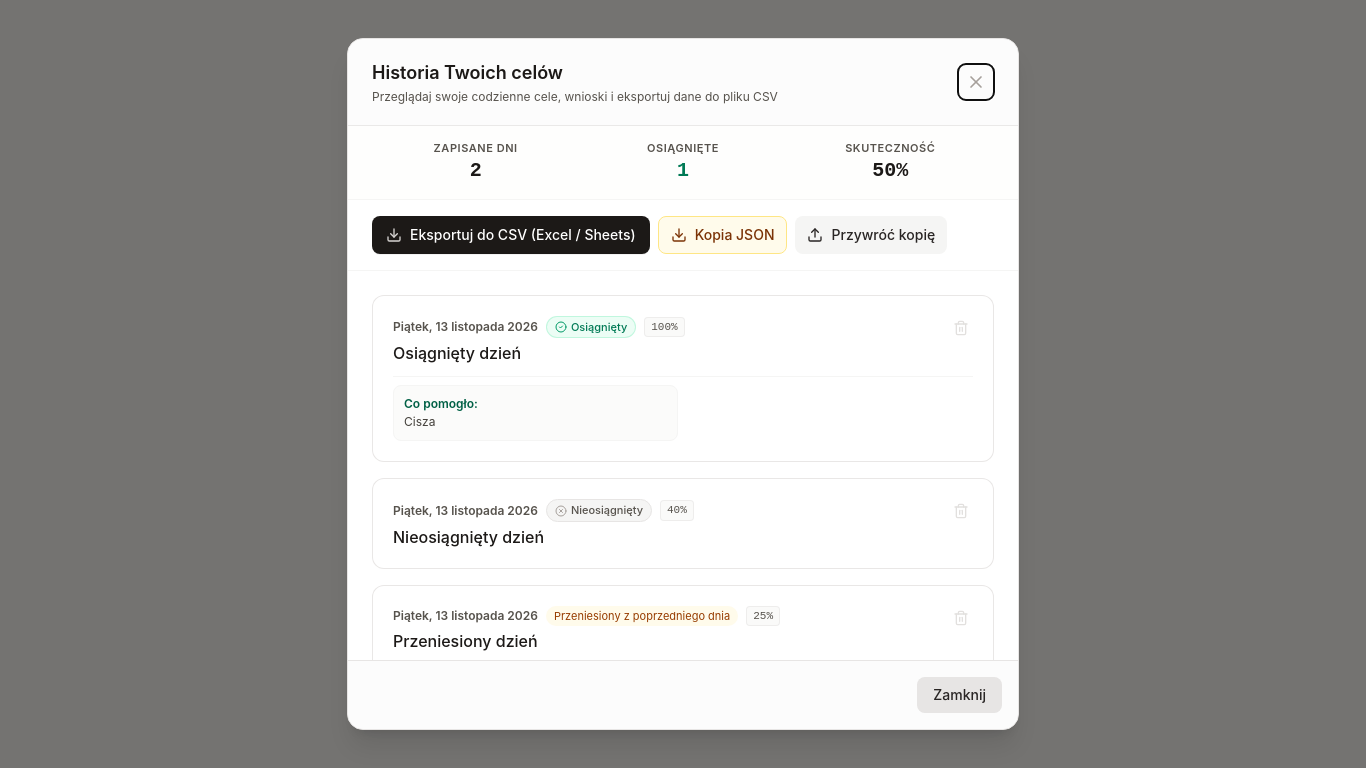
Test case: HistoryModal › gdy usunięcie się nie uda, pokazuje komunikat i zostawia wpis
Click the button named "Usuń wpis" in the row of "100": (961, 328) x1=949 y1=316 x2=973 y2=340
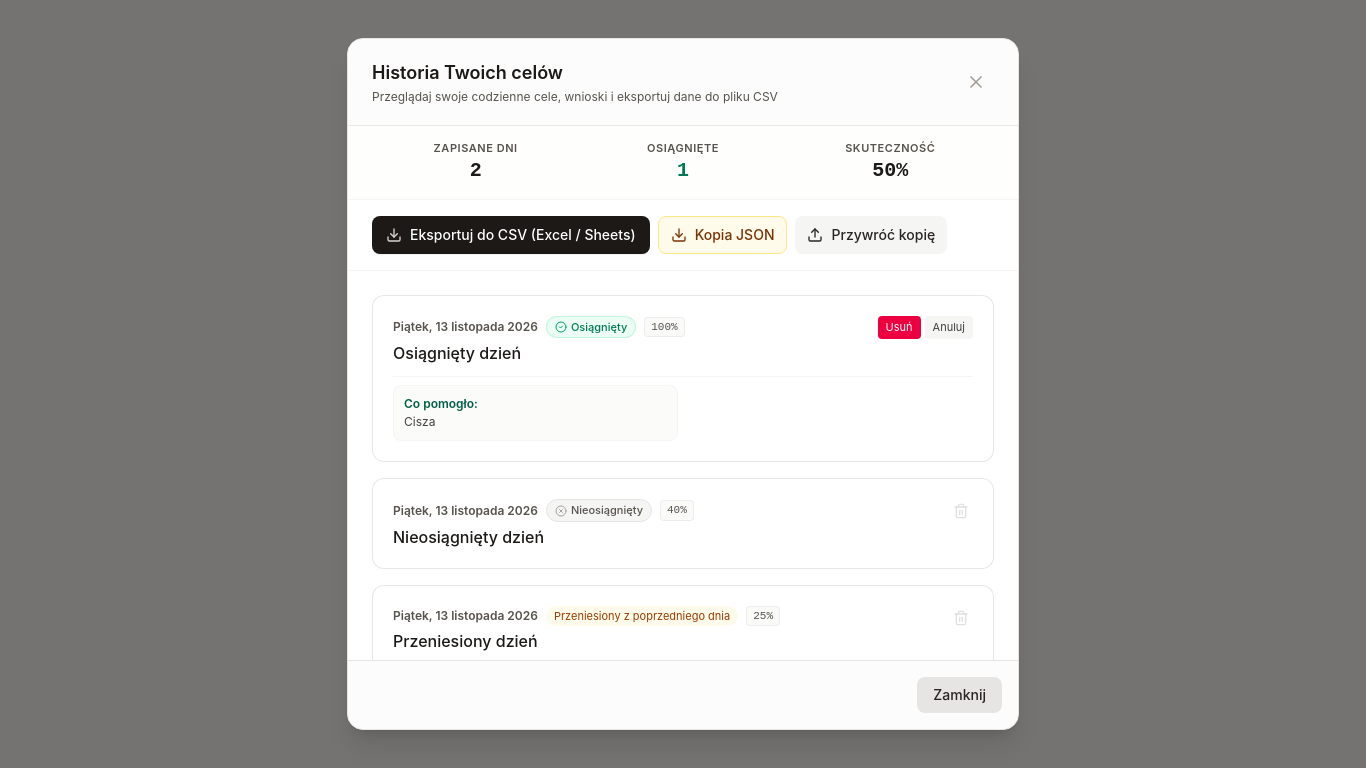
Click the button "Usuń": (899, 327) x1=878 y1=316 x2=921 y2=339
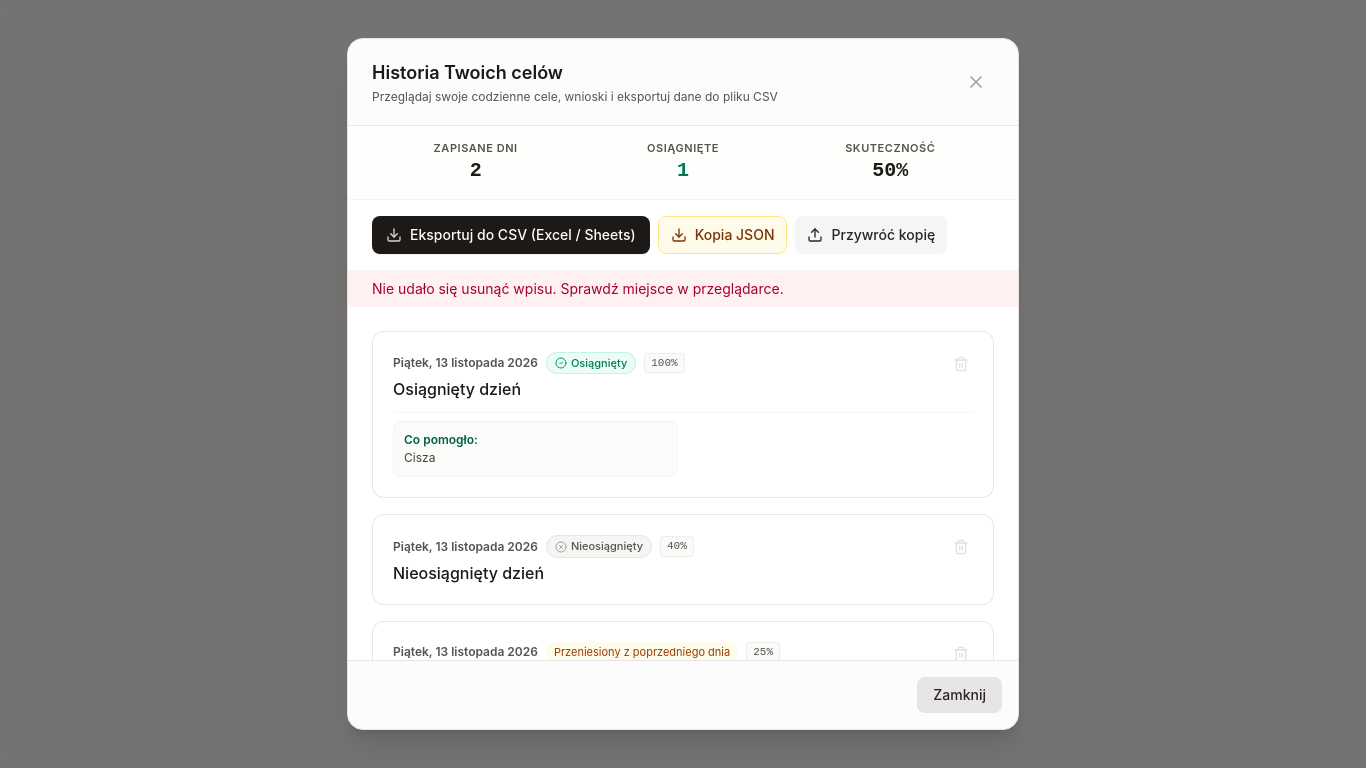
Expected: the message shows "Nie udało się usunąć wpisu", x1=372 y1=280 x2=784 y2=297
